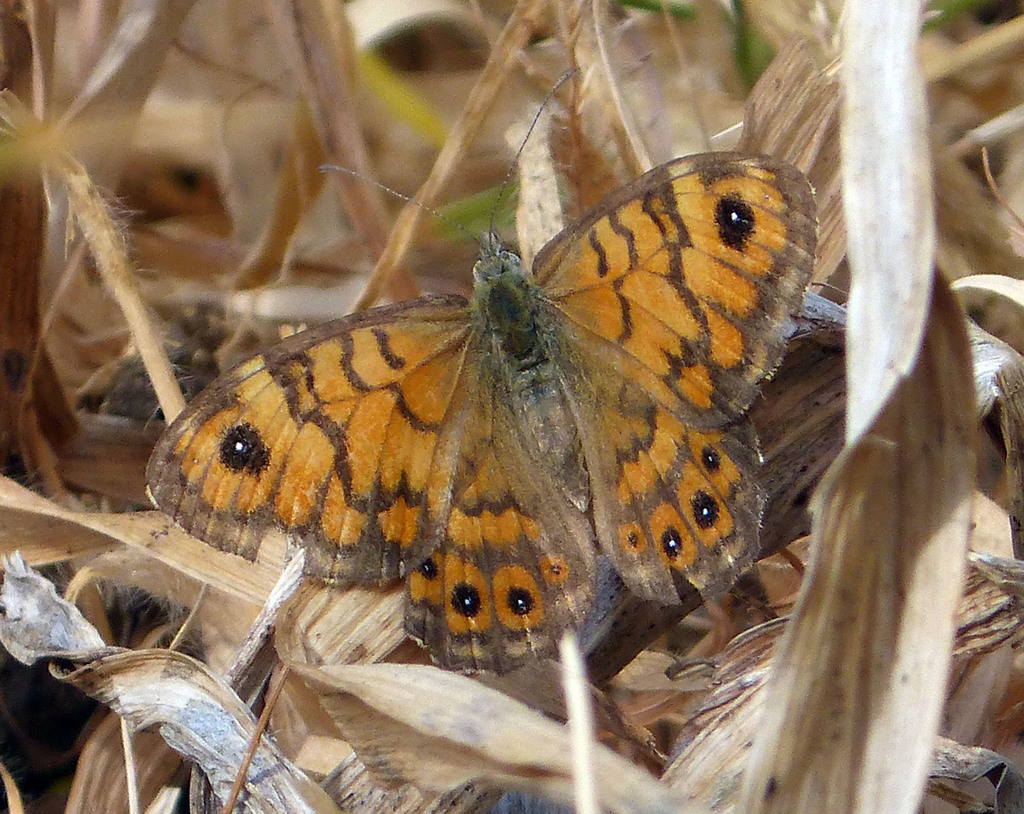Butterfly: (148, 158, 811, 677)
